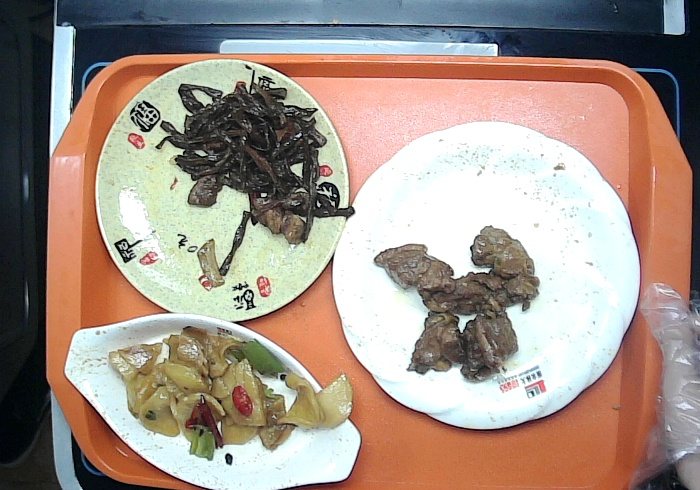NLDX-Bai_Zhe_Yuan_Pan: (330, 118, 641, 432)
NLDX-Fu_Zi_Yuan_Pan: (94, 57, 349, 320)
NLDX-Yu_Pan: (63, 312, 362, 490)
